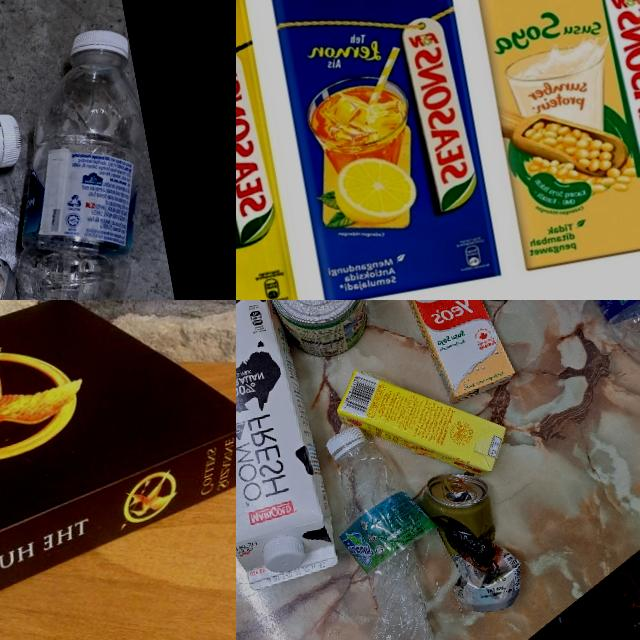caixinha: (269, 0, 503, 300), (468, 0, 640, 269), (236, 300, 340, 597), (334, 353, 502, 495), (236, 0, 300, 300), (391, 300, 514, 409)
garrafa plástica: (0, 54, 189, 300), (331, 434, 456, 640), (502, 300, 640, 418)
lata: (261, 300, 378, 363)
papel: (0, 300, 236, 640)
tampa plástica: (65, 24, 127, 65), (260, 529, 314, 573), (0, 95, 27, 170), (320, 426, 363, 458)
